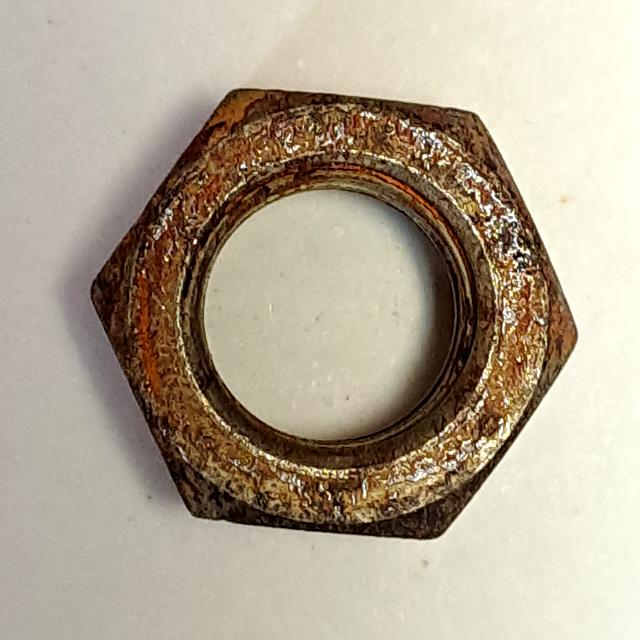Rust: (83, 70, 593, 562)
